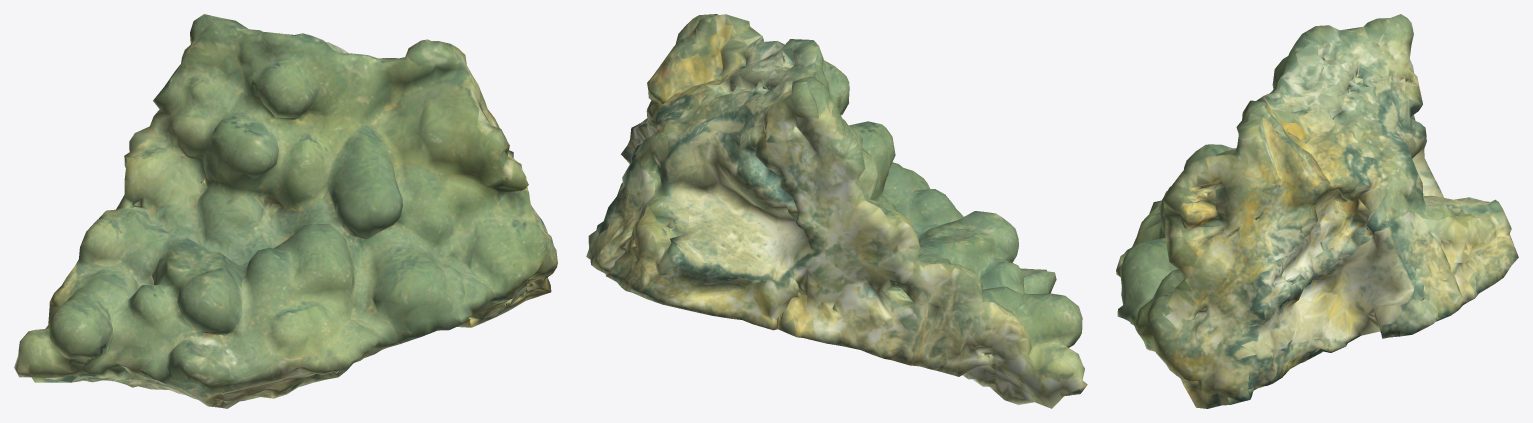
File: prehnite_FBX_still.fbx
The picture shows the model from 3 angles, left to right: view 1: azimuth 30°, elevation 25°; view 2: azimuth 150°, elevation 25°; view 3: azimuth 270°, elevation 25°; orthographic projection. The views are drawn at different scales.
Visible parts, largest first — view 1: prehnite_gameasset; view 2: prehnite_gameasset; view 3: prehnite_gameasset.
Part boxes in pixels (x1,y1,x2,y2): prehnite_gameasset: (14, 14, 557, 408); prehnite_gameasset: (586, 14, 1087, 408); prehnite_gameasset: (1116, 14, 1518, 408).
Bounding box in the file's own units: 57.44 × 34.46 × 39.6.
Materials: 1 (1 with a texture image).
